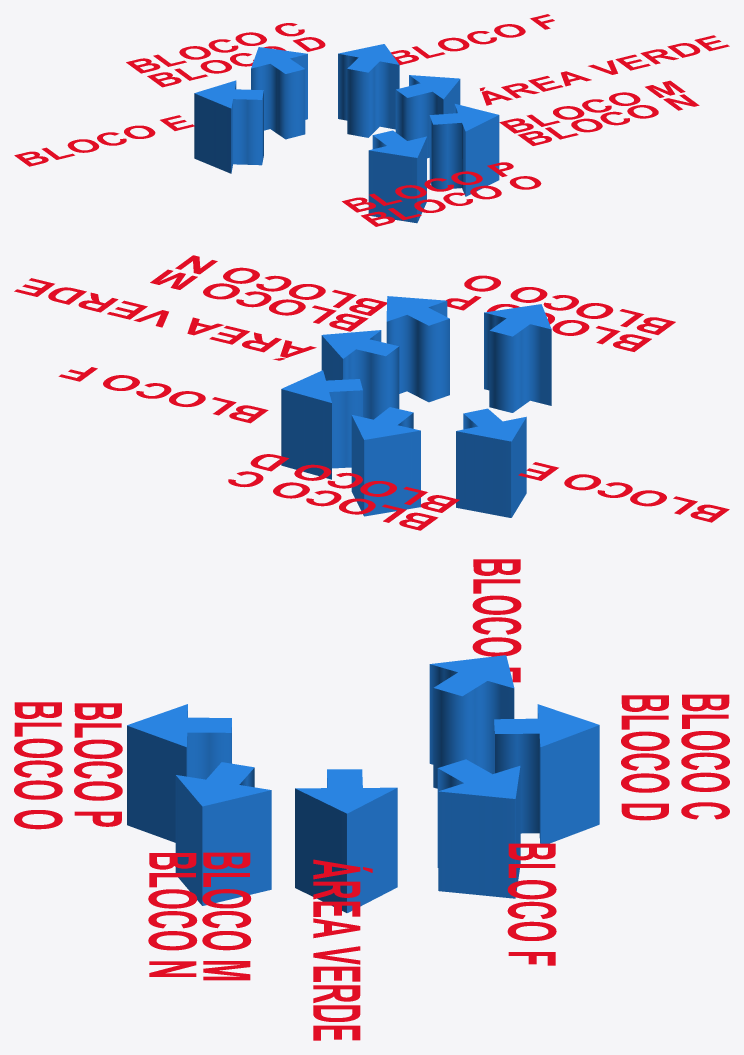
The model's file is bloco G - 1.glb.
3 views of the same model, one above another, from view 1: azimuth 30°, elevation 25°; view 2: azimuth 150°, elevation 25°; view 3: azimuth 270°, elevation 25° (orthographic). The views are drawn at different scales.
Parts seen in each view (by area): view 1: Curve.003, Curve.007, Curve.005, Curve.004, Curve.006, Curve.001, Text.012, Text.001, Text.003, Text.014, Text.004, Text.007 (+3 smaller); view 2: Curve.005, Curve.003, Curve.004, Curve.006, Curve.007, Curve.001, Text.012, Text.001, Text.004, Text.014, Text.003, Text.008 (+3 smaller); view 3: Curve.001, Curve.006, Curve.007, Curve.005, Curve.004, Curve.003, Text.012, Text.001, Text.008, Text.014, Text.003, Text.002 (+3 smaller).
Boxes of the visible parts, x1,y1,x2,y2 form: Curve.003: (194,80,263,173); Curve.007: (429,104,499,196); Curve.005: (338,44,399,137); Curve.004: (368,130,426,223); Curve.006: (251,47,307,139); Curve.001: (395,75,460,158); Text.012: (479,35,729,105); Text.001: (499,80,685,133); Text.003: (518,94,699,145); Text.014: (361,176,541,226); Text.004: (14,115,194,166); Text.007: (126,23,304,73); Curve.005: (281,370,362,479); Curve.003: (456,408,526,517); Curve.004: (484,304,551,412); Curve.006: (351,407,420,516); Curve.007: (386,296,449,402); Curve.001: (321,330,399,419); Text.012: (14,278,316,360); Text.001: (150,269,368,331); Text.004: (518,462,729,522); Text.014: (464,275,675,334); Text.003: (175,255,386,315); Text.008: (250,454,459,512); Curve.001: (295,769,397,912); Curve.006: (494,704,599,843); Curve.007: (175,762,271,905); Curve.005: (437,759,520,898); Curve.004: (127,704,231,842); Curve.003: (429,655,514,788); Text.012: (313,859,372,1040); Text.001: (202,852,251,980); Text.008: (621,695,669,820); Text.014: (14,702,62,829); Text.003: (148,853,197,976); Text.002: (74,703,122,826).
Size of the model in its own units: 3.63 by 0.361 by 2.28.
